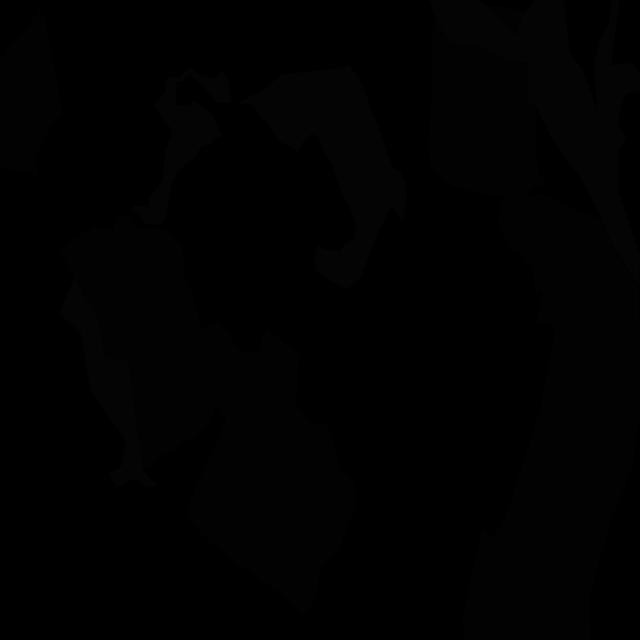cardboard: (462, 255, 640, 640), (59, 215, 257, 470), (186, 327, 356, 615), (428, 15, 546, 196), (498, 193, 639, 328), (0, 10, 62, 177), (487, 6, 524, 35)
soft_plastic: (430, 0, 640, 288), (238, 64, 406, 289), (58, 278, 158, 487), (132, 67, 231, 225)
